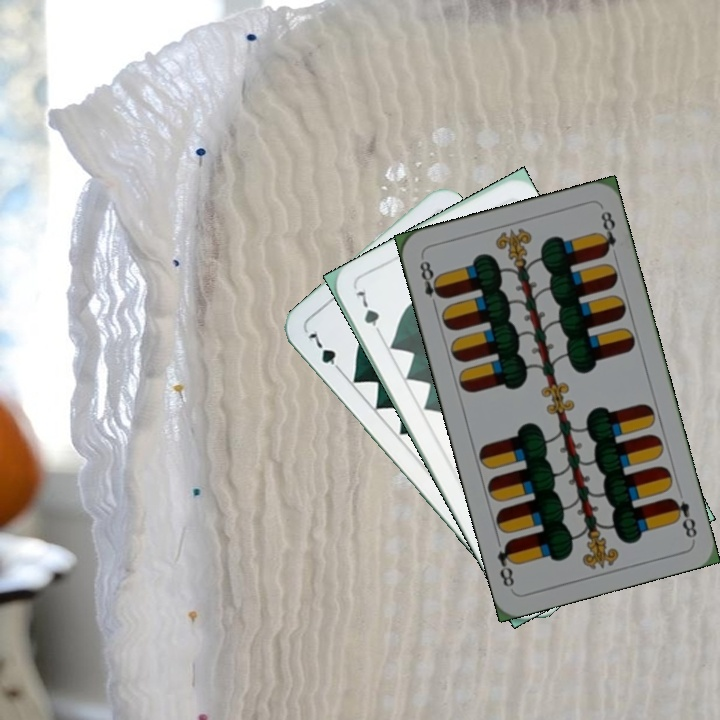E8: (415, 256, 447, 312), (666, 494, 700, 541)
G7: (303, 329, 347, 377), (351, 284, 386, 340)
